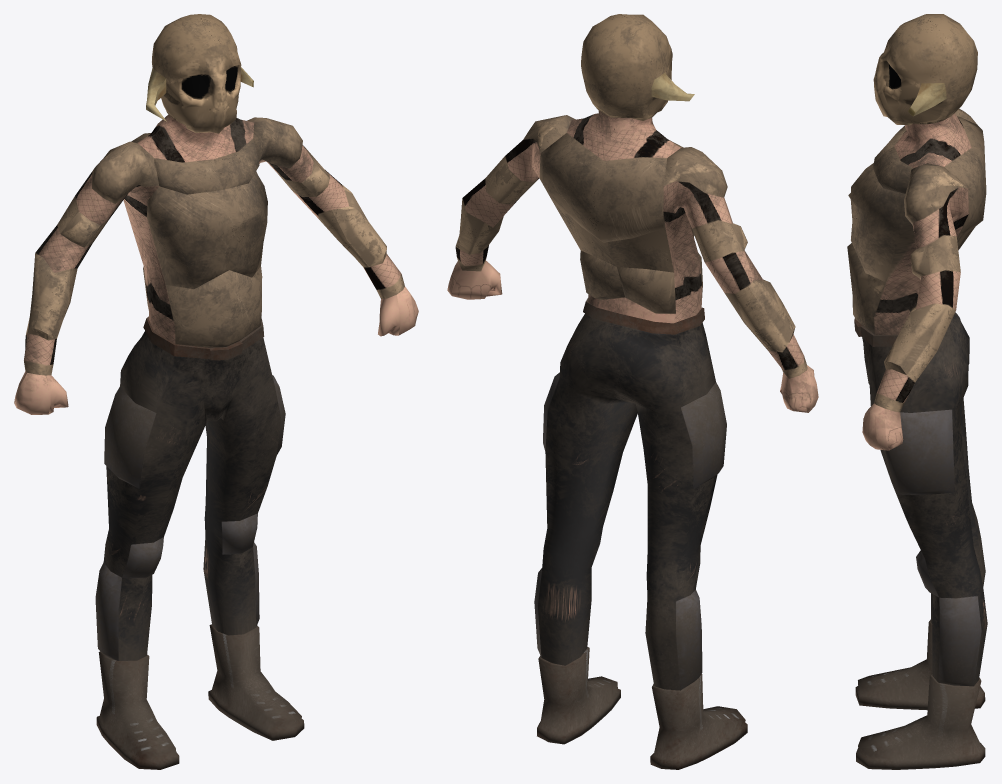
Rendered from Anim_idle_npc1.0025.obj.
3 views of the same model, side by side, from view 1: azimuth 30°, elevation 25°; view 2: azimuth 150°, elevation 25°; view 3: azimuth 270°, elevation 25° (orthographic).
Visible parts, largest first — view 1: NPC2; view 2: NPC2; view 3: NPC2.
Part boxes in pixels (box(x1,y1,x2,y2)): NPC2: box(14, 14, 418, 769); NPC2: box(447, 14, 818, 769); NPC2: box(847, 14, 987, 769).
Size of the model in its own units: 5.42 by 9.68 by 1.72.
